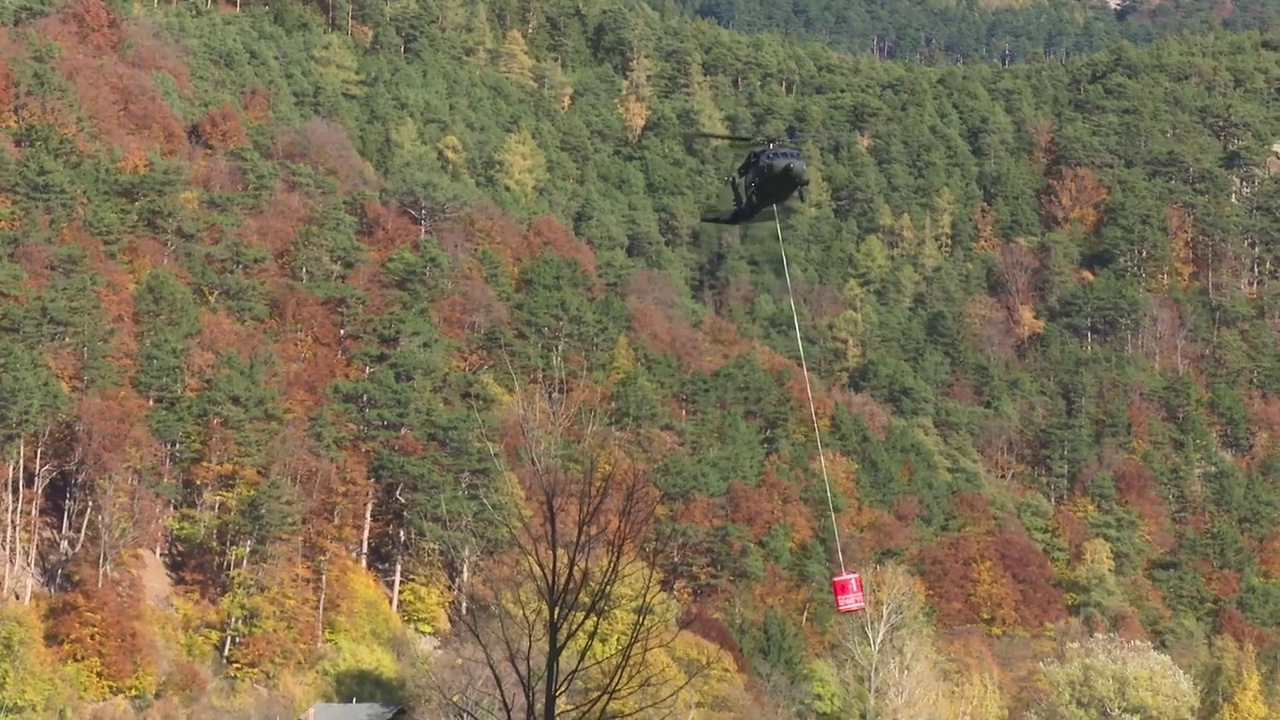heli: (691, 129, 811, 225)
